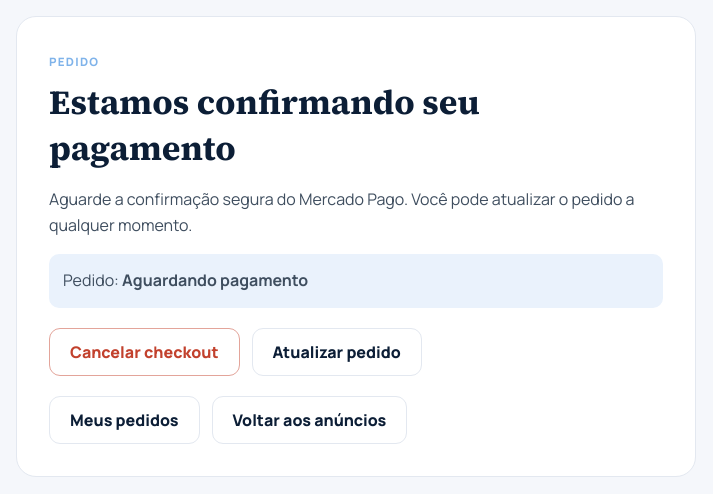
cancela um checkout que ainda aguarda pagamento
The width and height of the screenshot is (713, 494).
Step 1. Click the button "Cancelar checkout" → point(144, 352), box [49,328,240,376]
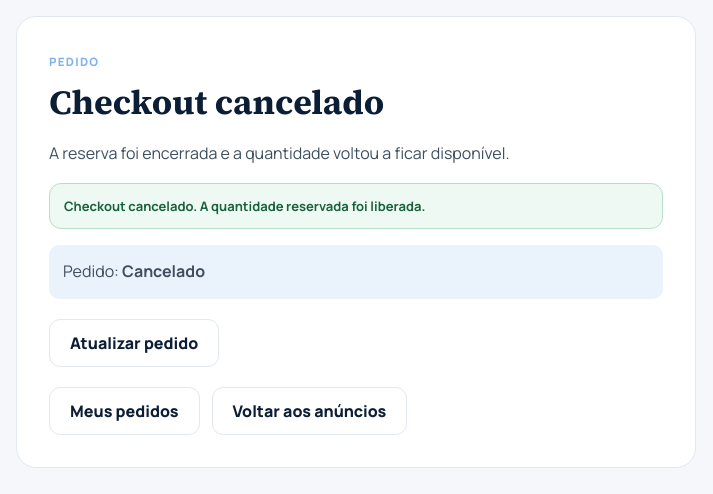
Now the text "Checkout cancelado. A quantidade reservada foi liberada." is shown, box [49,183,663,229]
Now the heading "Checkout cancelado" is shown, box [49,79,384,125]
Now the text "Cancelado" is shown, box [122,260,205,282]
